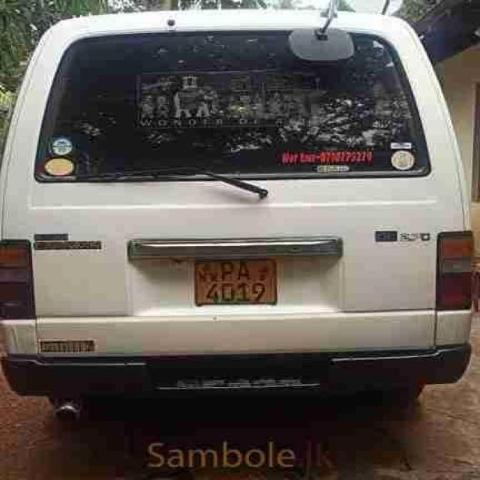van: (10, 14, 479, 412)
